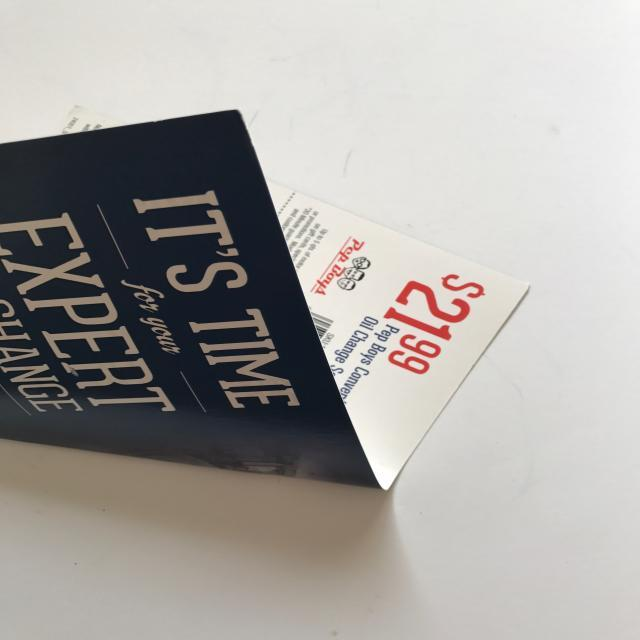paper: (2, 112, 534, 492)
